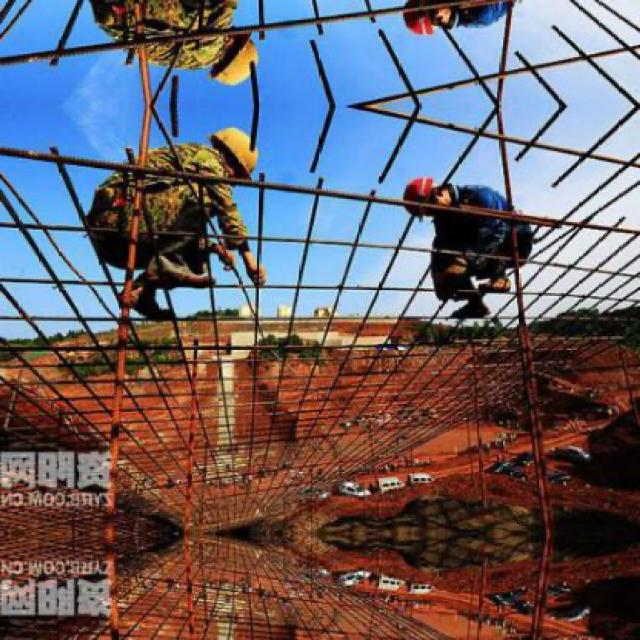helmet: (204, 122, 262, 179), (204, 36, 262, 92), (400, 0, 458, 37), (400, 178, 457, 215)
